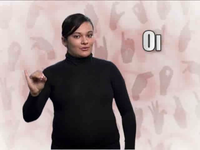oi: (24, 66, 48, 98)
